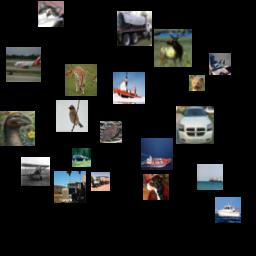airplane: (6, 47, 41, 82), (21, 157, 50, 186), (209, 53, 231, 75)
automobile: (176, 106, 214, 144), (72, 148, 91, 167)
bird: (0, 111, 35, 146), (56, 100, 88, 132)
cat: (38, 1, 64, 27)
deer: (154, 29, 192, 67), (65, 64, 97, 96)
dog: (143, 174, 169, 200), (189, 75, 205, 91)
frog: (100, 121, 122, 143)
ship: (141, 138, 173, 170), (113, 72, 145, 104), (197, 164, 223, 190), (215, 197, 241, 223)
truck: (117, 11, 152, 46), (54, 171, 86, 203), (91, 172, 110, 191)
